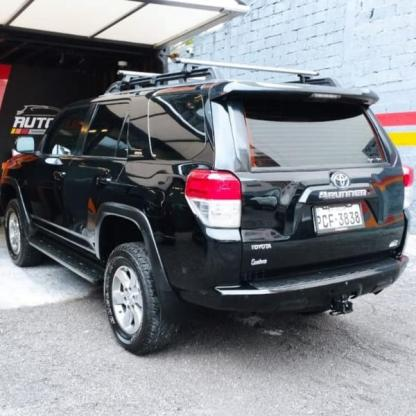Placa: (312, 204, 368, 235)
